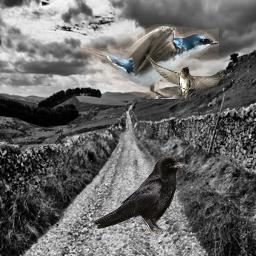Crow: (92, 156, 188, 234)
Swallow: (78, 24, 219, 99), (145, 54, 224, 101)
